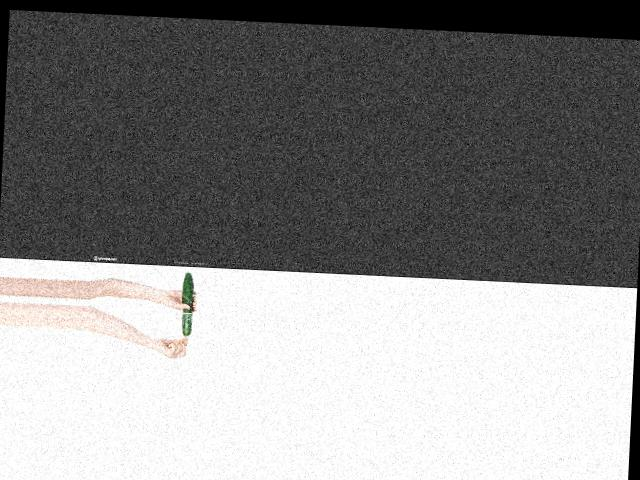cucumber: (182, 270, 195, 336)
